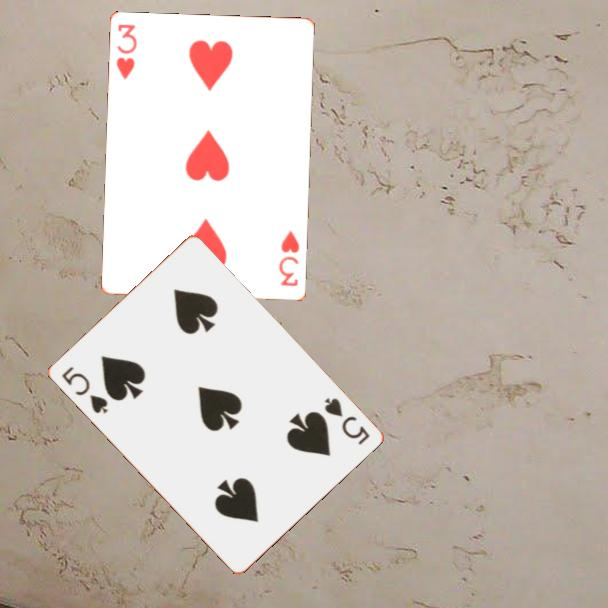h03: (276, 227, 303, 289), (113, 21, 140, 83)
s05: (58, 363, 110, 417), (320, 394, 372, 448)
